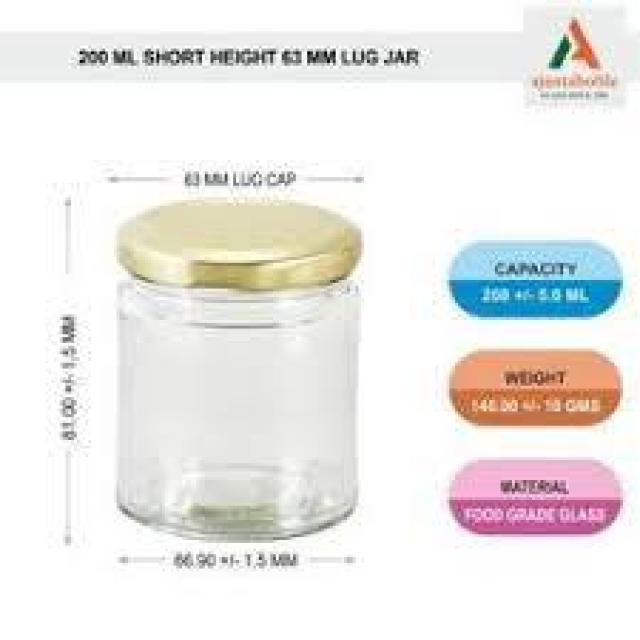Glass: (112, 196, 368, 542)
